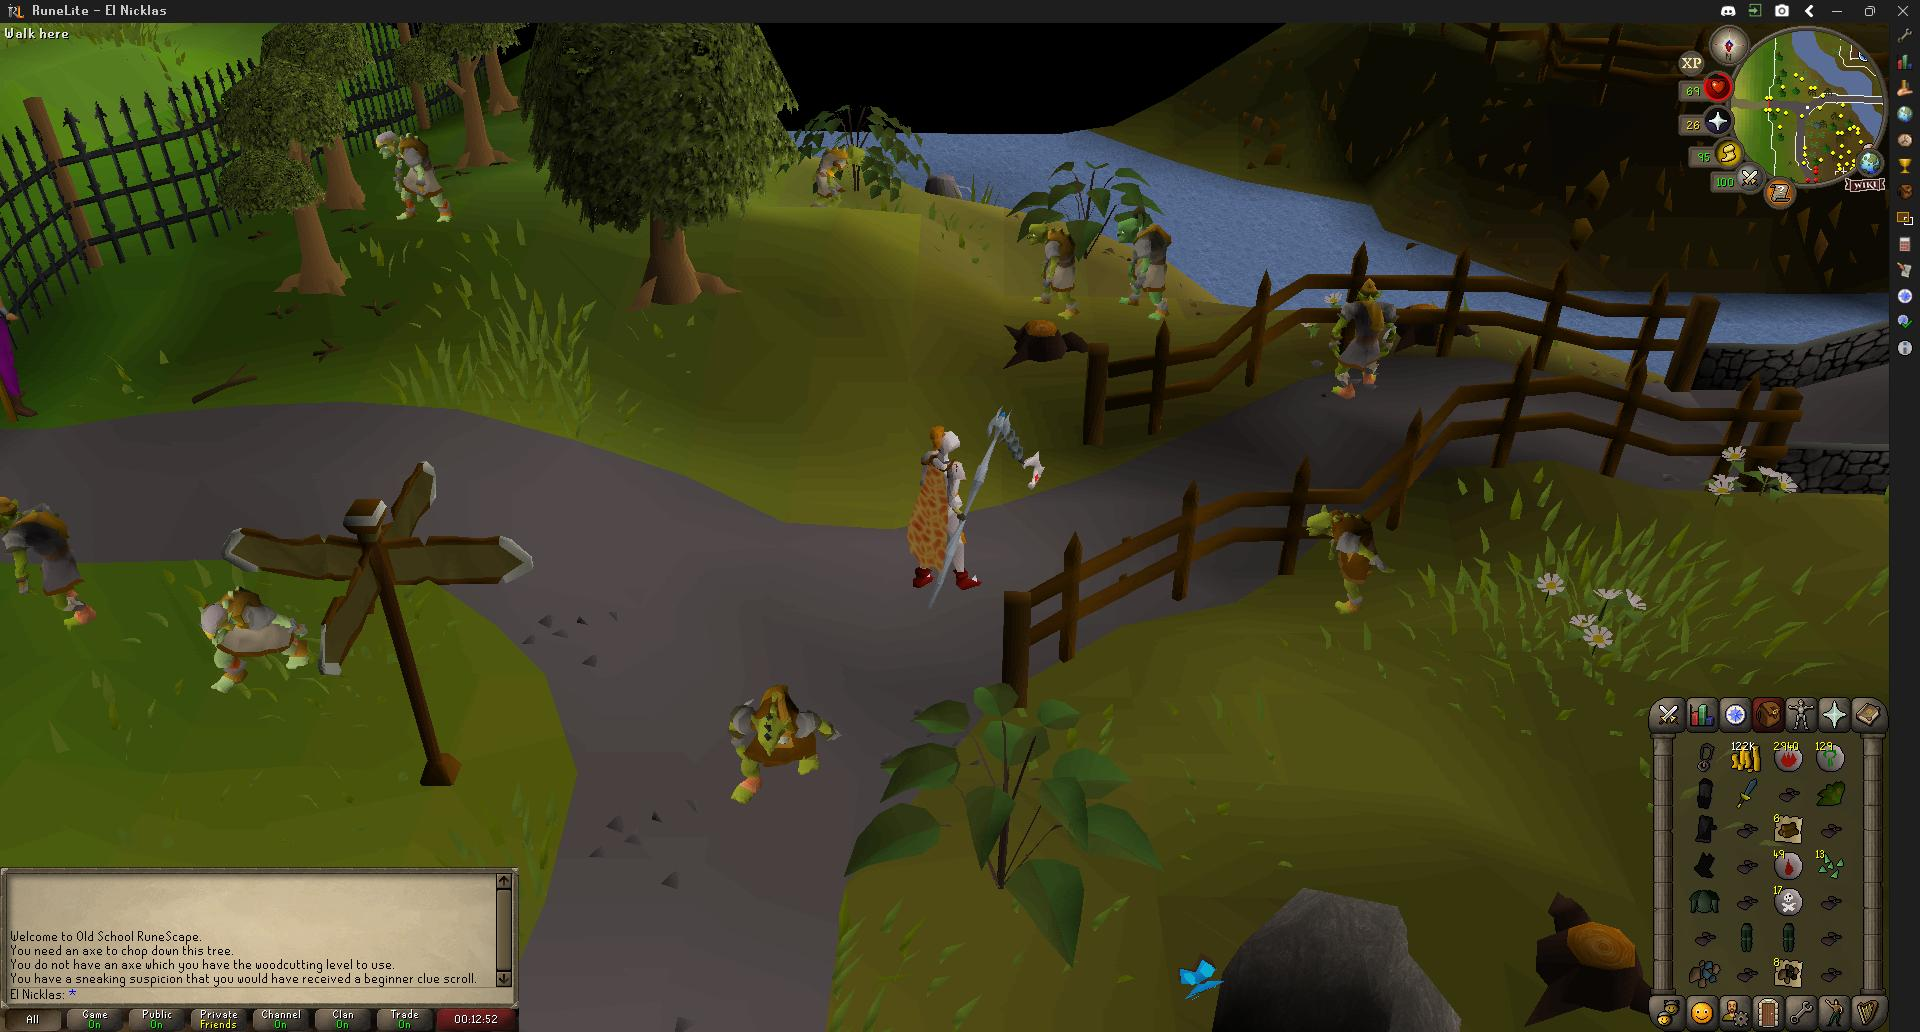Player: (904, 424, 973, 589)
goblin: (724, 684, 837, 801), (200, 586, 315, 694), (2, 500, 93, 622), (1330, 277, 1404, 401), (1312, 511, 1388, 610), (380, 132, 450, 222), (1122, 220, 1175, 322), (1035, 221, 1081, 318), (811, 146, 849, 206)
